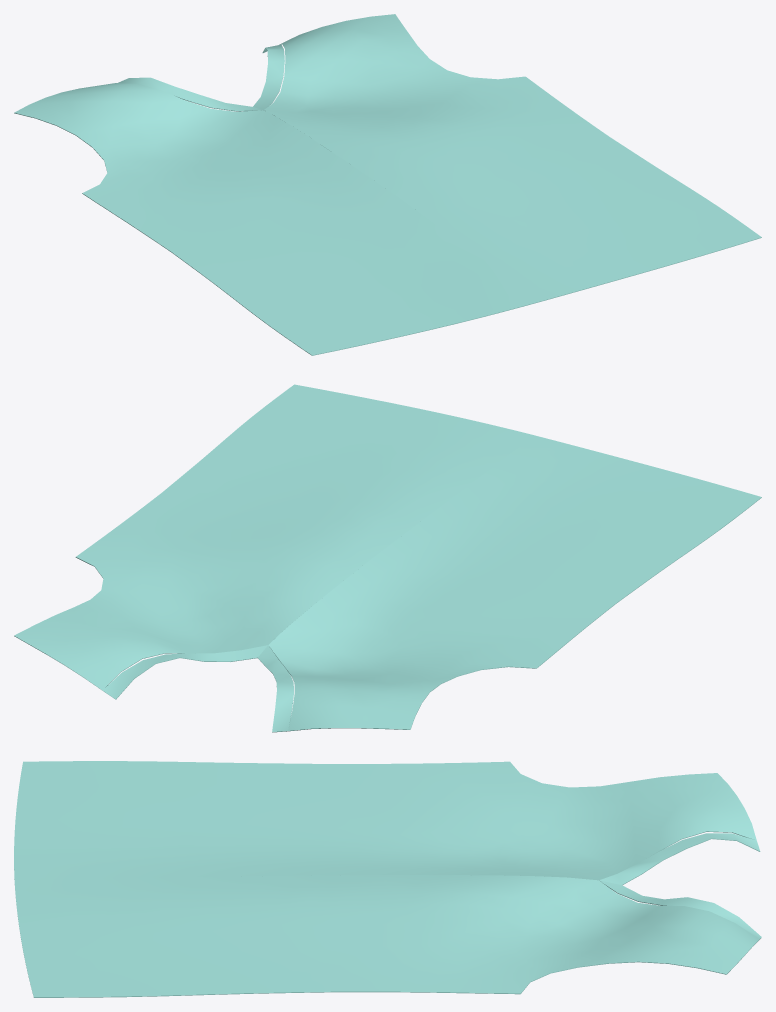
Rendered from single1.fbx.
The picture shows the model from 3 angles, top to bottom: view 1: azimuth 30°, elevation 25°; view 2: azimuth 150°, elevation 25°; view 3: azimuth 270°, elevation 25°; orthographic projection. The views are drawn at different scales.
Parts seen in each view (by area): view 1: single1:Mesh; view 2: single1:Mesh; view 3: single1:Mesh.
Part boxes in pixels (x1,y1,x2,y2): single1:Mesh: [14, 14, 761, 355]; single1:Mesh: [14, 384, 761, 732]; single1:Mesh: [14, 761, 761, 997].
Size of the model in its own units: 7.12 by 0.4149 by 9.31.
